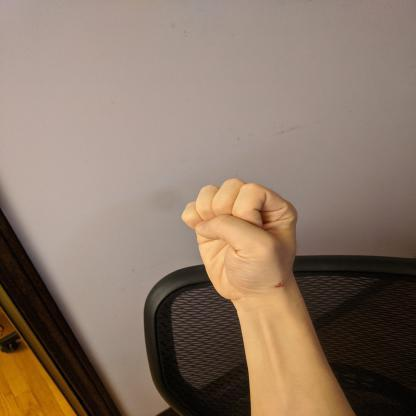E: (178, 174, 302, 302)
